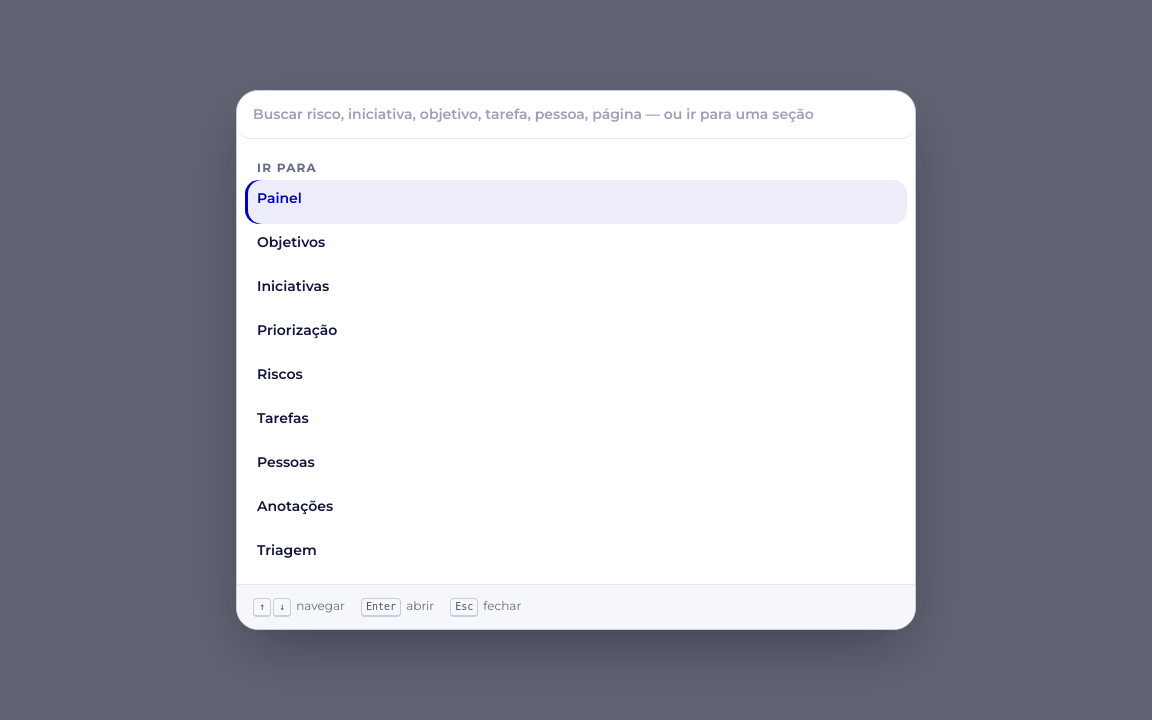
Test: lista a página com o tipo escrito, e a página "Triagem" não se confunde com a aba Triagem
The image size is (1152, 720).
Replace the text in the dropdown named "Buscar e navegar" with "triagem" at (576, 115), box 237,91 -> 915,139
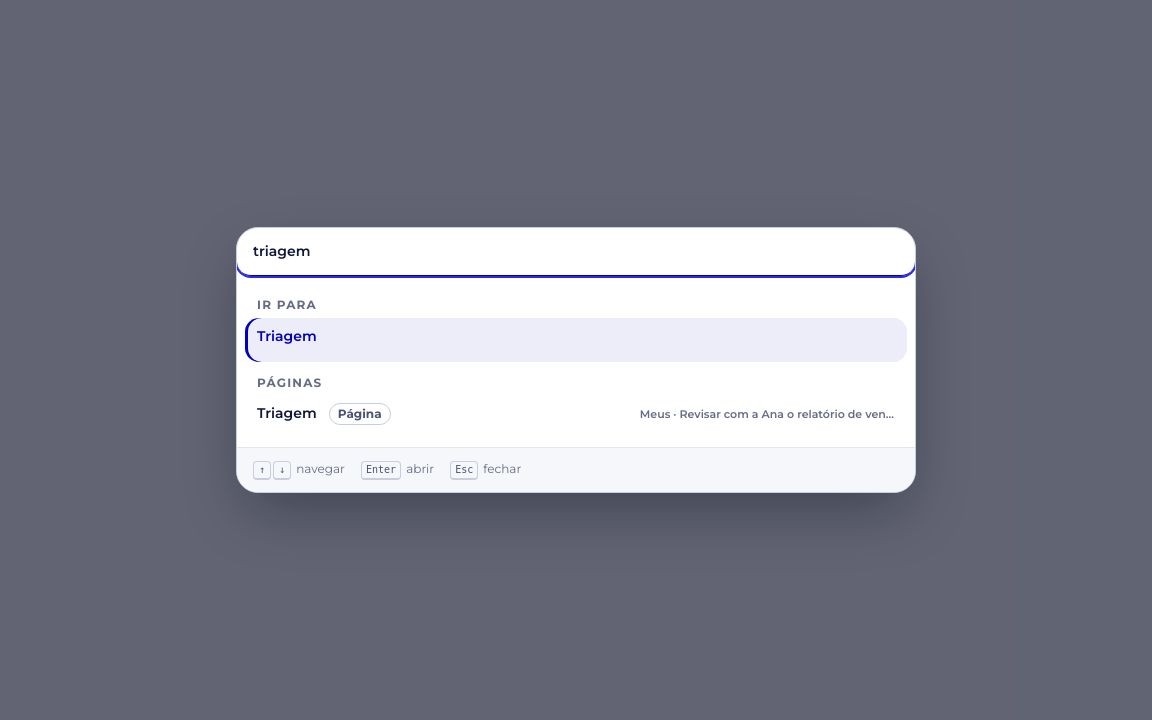
Result: the text "Página" is shown at 329,403 -> 391,425
Result: the text "Triagem" below "Páginas" is shown at 257,404 -> 317,422
Result: the 2nd option shows "Revisar com a Ana" at 257,403 -> 906,425
